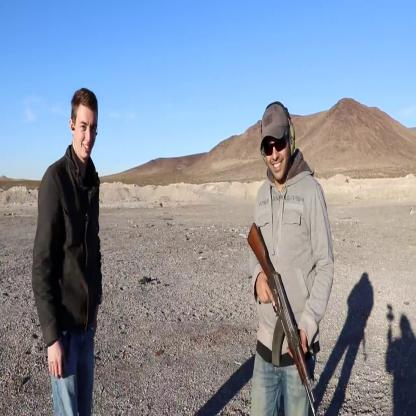long weapon: (245, 221, 323, 415)
